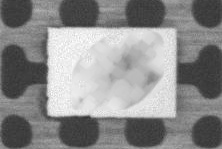DIE_INK: (74, 34, 163, 110)
